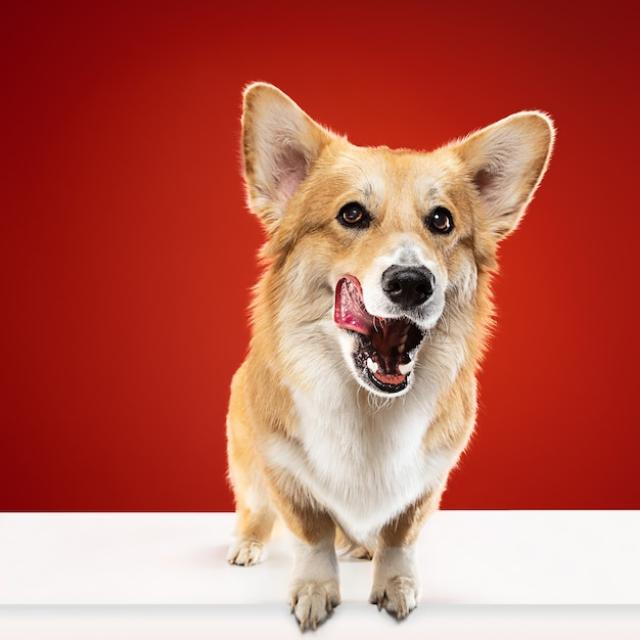Dog: (226, 80, 556, 632)
